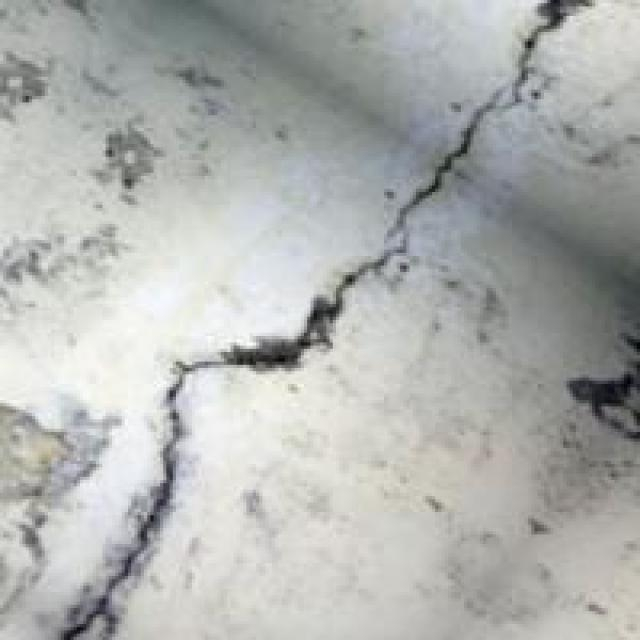Crack: (58, 0, 560, 637)
